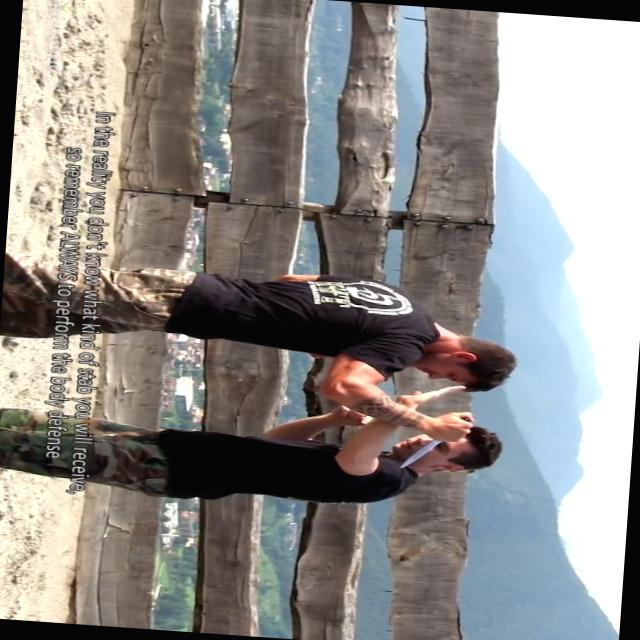knife: (396, 406, 476, 476)
